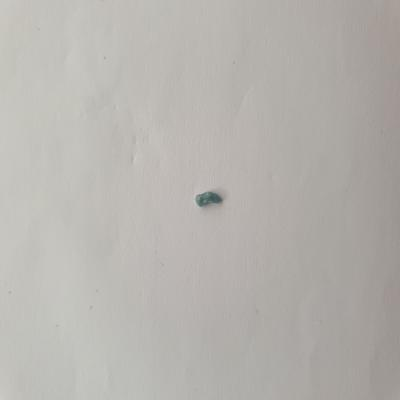plastic: (189, 188, 230, 208)
